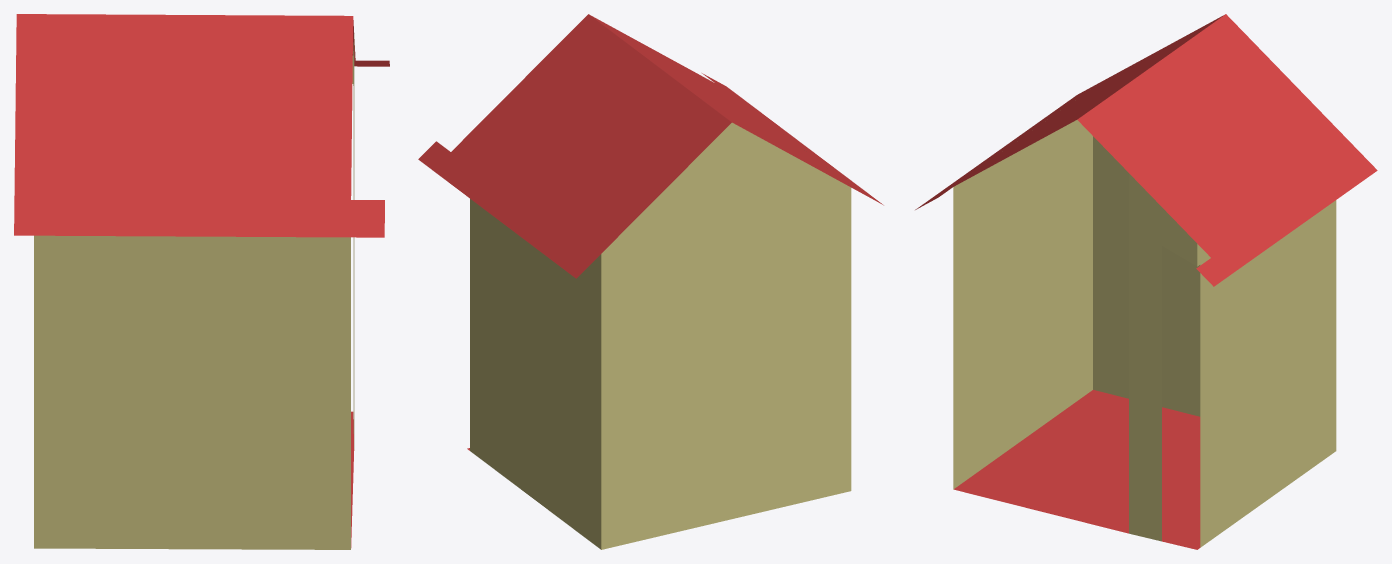
3 renders of one model, left to right at view 1: azimuth 30°, elevation 25°; view 2: azimuth 150°, elevation 25°; view 3: azimuth 270°, elevation 25°, orthographic. The views are drawn at different scales.
Size of the model in its own units: 14.62 by 14.95 by 14.24.
